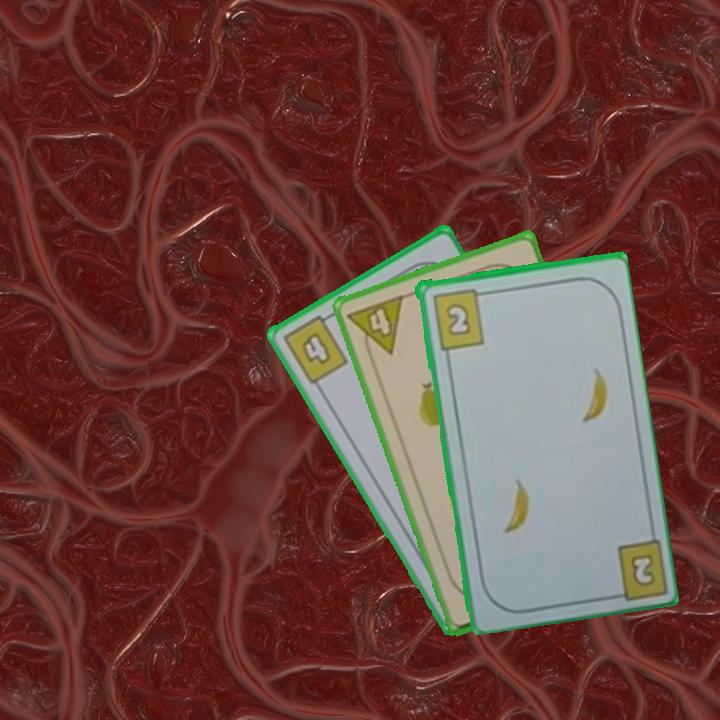2b: (603, 533, 667, 602), (428, 285, 489, 352)
4b: (278, 308, 351, 388)
4p: (344, 291, 407, 364)
